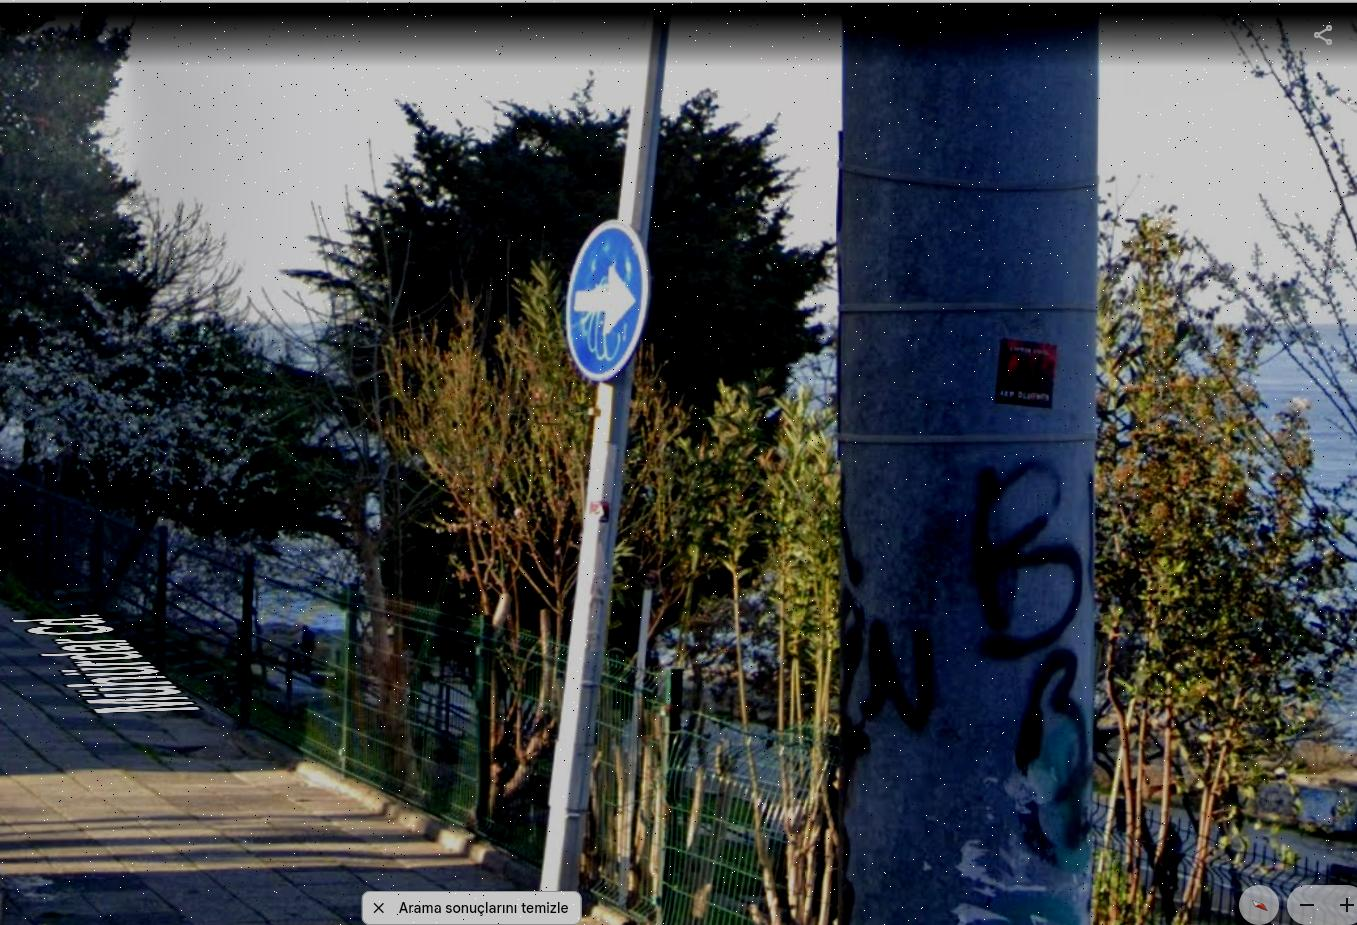turnright: (565, 222, 646, 375)
